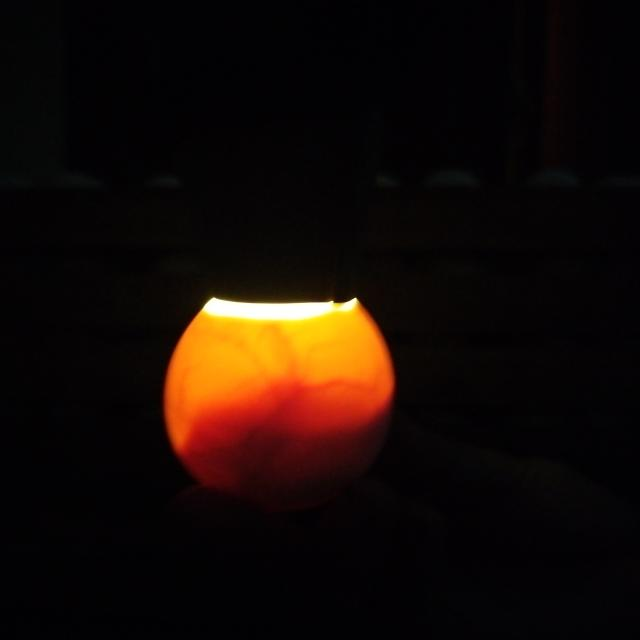Embriao: (183, 397, 399, 508)
